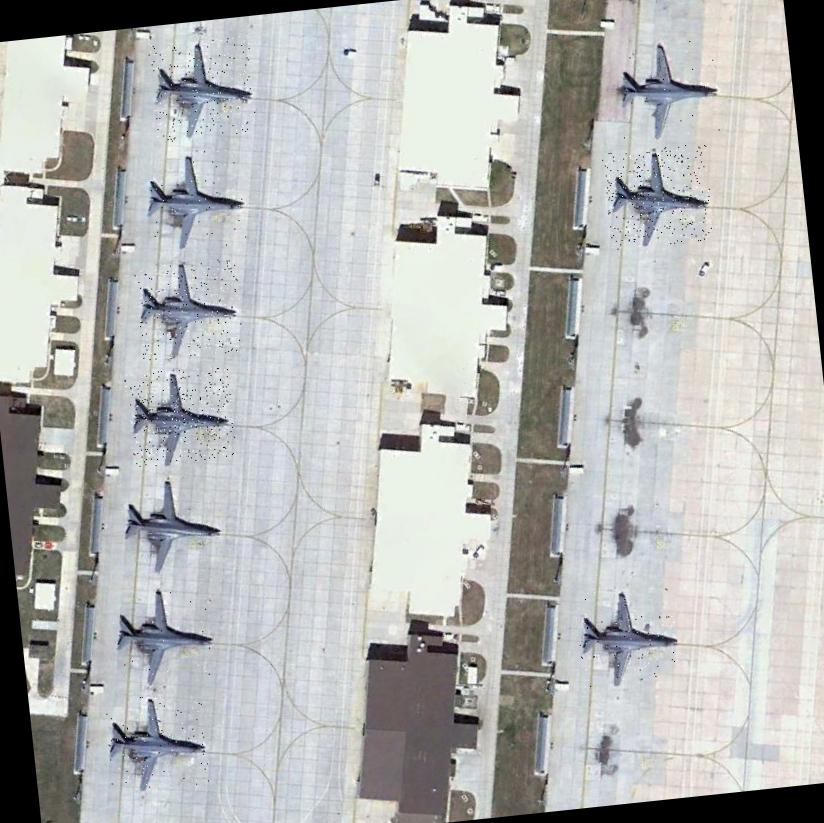A10: (600, 140, 716, 249), (609, 33, 726, 140), (146, 31, 258, 142), (109, 580, 218, 689), (140, 146, 250, 254), (123, 364, 236, 468), (116, 471, 225, 576), (134, 256, 244, 360), (102, 690, 210, 794), (574, 583, 680, 688)
